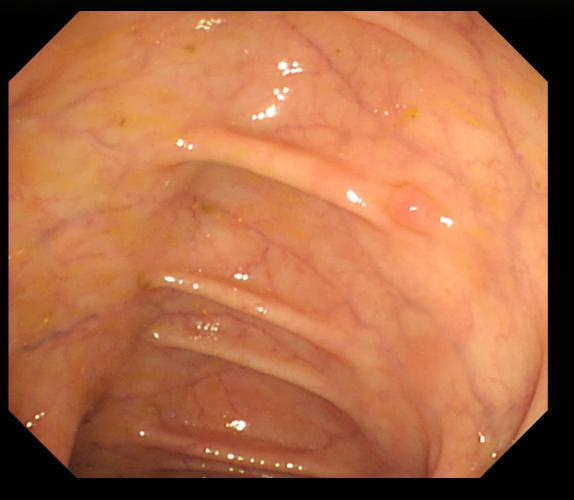polyp: (384, 182, 443, 236)
